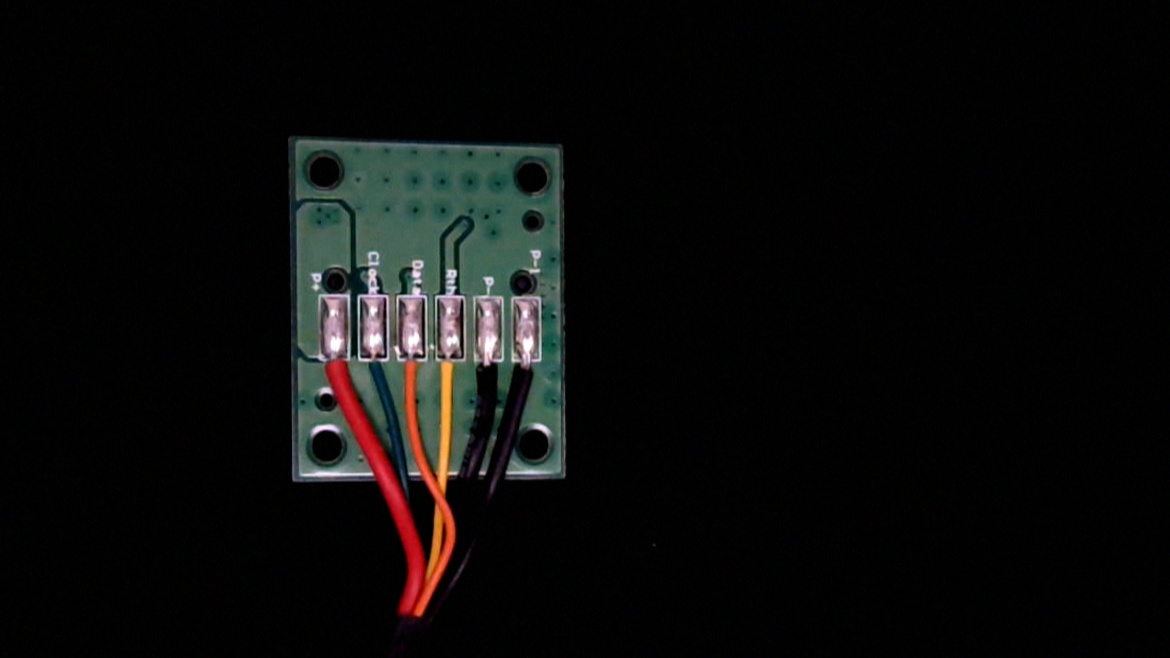Black: (470, 344, 504, 413)
Black1: (513, 344, 543, 407)
Green: (355, 339, 389, 412)
Orange: (396, 341, 428, 415)
Red: (318, 342, 353, 414)
Yellow: (434, 341, 465, 405)
